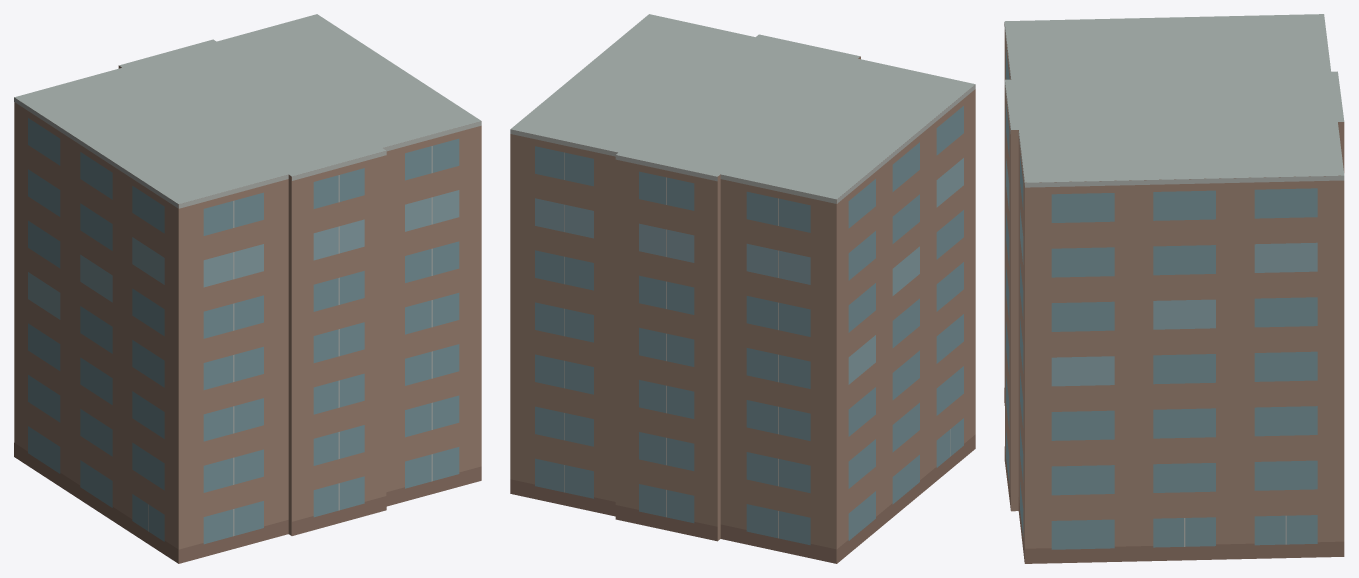
File: survey-upis-32961964.glb
3 views of the same model, side by side, from view 1: azimuth 30°, elevation 25°; view 2: azimuth 150°, elevation 25°; view 3: azimuth 270°, elevation 25° (orthographic). The views are drawn at different scales.
Visible parts, largest first — view 1: survey-upis-32961964.tmp; view 2: survey-upis-32961964.tmp; view 3: survey-upis-32961964.tmp.
Part boxes in pixels (<box>): survey-upis-32961964.tmp: <box>14,14,481,563</box>; survey-upis-32961964.tmp: <box>510,14,975,563</box>; survey-upis-32961964.tmp: <box>1004,14,1344,563</box>.
Size of the model in its own units: 18.34 by 19.3 by 15.61.
